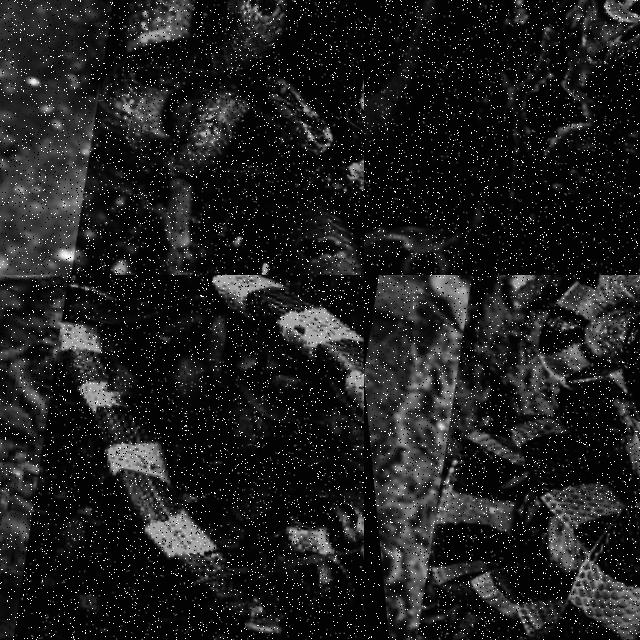Bungarus candidus: (56, 318, 233, 595)
Bungarus fasciatus: (432, 420, 639, 639)
Calliophis maculiceps: (97, 0, 363, 274)
Python bivittatus: (364, 0, 639, 274)
